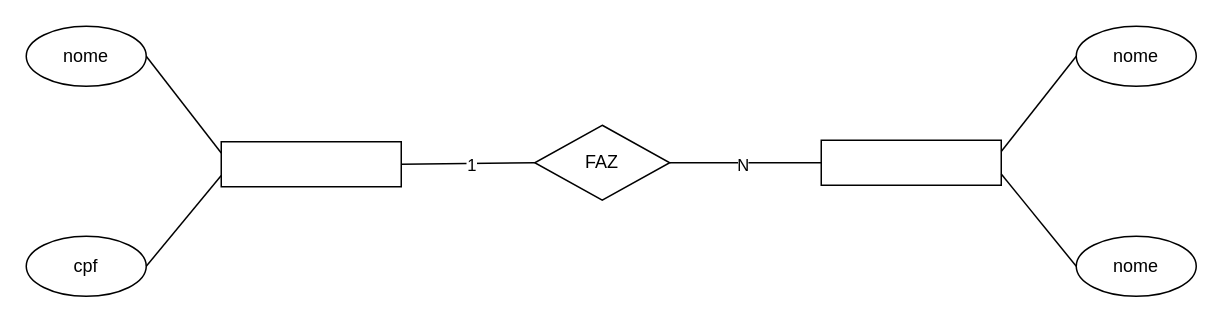
This 1223x323 diagram has some shape labels left out. The box of each missing label's shape, as (x1, y1, x2, y2) in pixels:
CLIENTE: (220, 140, 401, 187)
PEDIDOS: (820, 139, 1001, 185)
